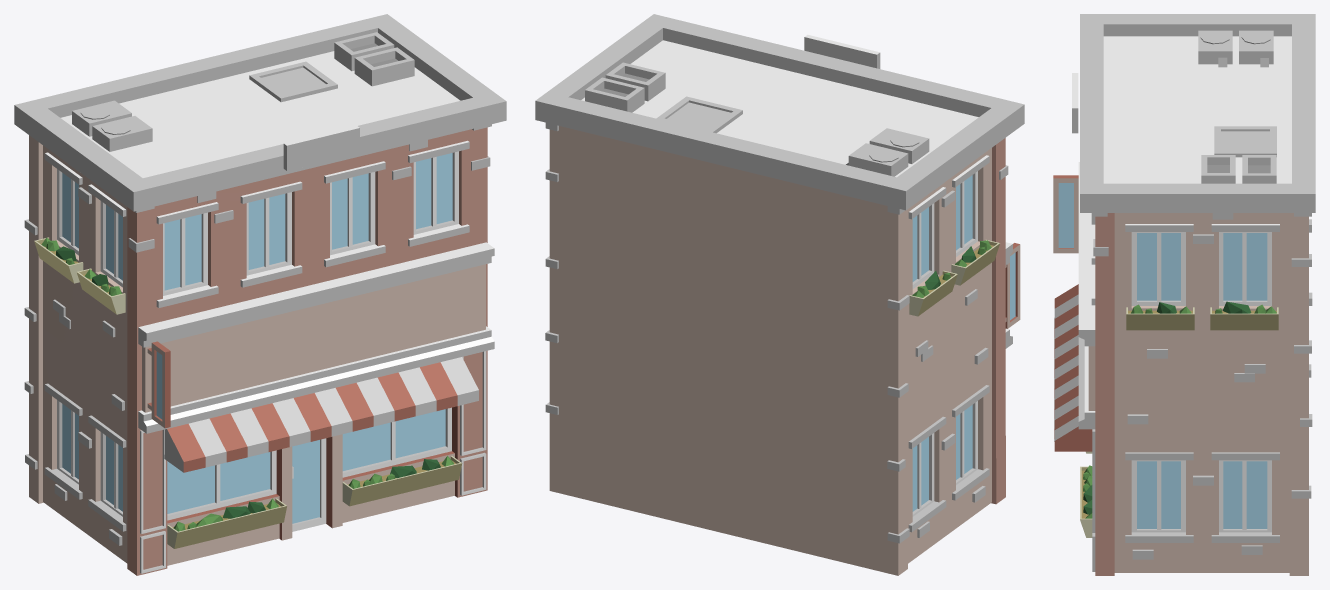
Rendered from house_small_2_009.fbx.
3 views of the same model, side by side, from view 1: azimuth 30°, elevation 25°; view 2: azimuth 150°, elevation 25°; view 3: azimuth 270°, elevation 25° (orthographic).
Parts seen in each view (by area): view 1: house_small_2_009; view 2: house_small_2_009; view 3: house_small_2_009.
Part boxes in pixels (<box>): house_small_2_009: <box>14,14,506,575</box>; house_small_2_009: <box>535,14,1024,575</box>; house_small_2_009: <box>1053,14,1315,575</box>.
Size of the model in its own units: 720 by 748 by 444.
